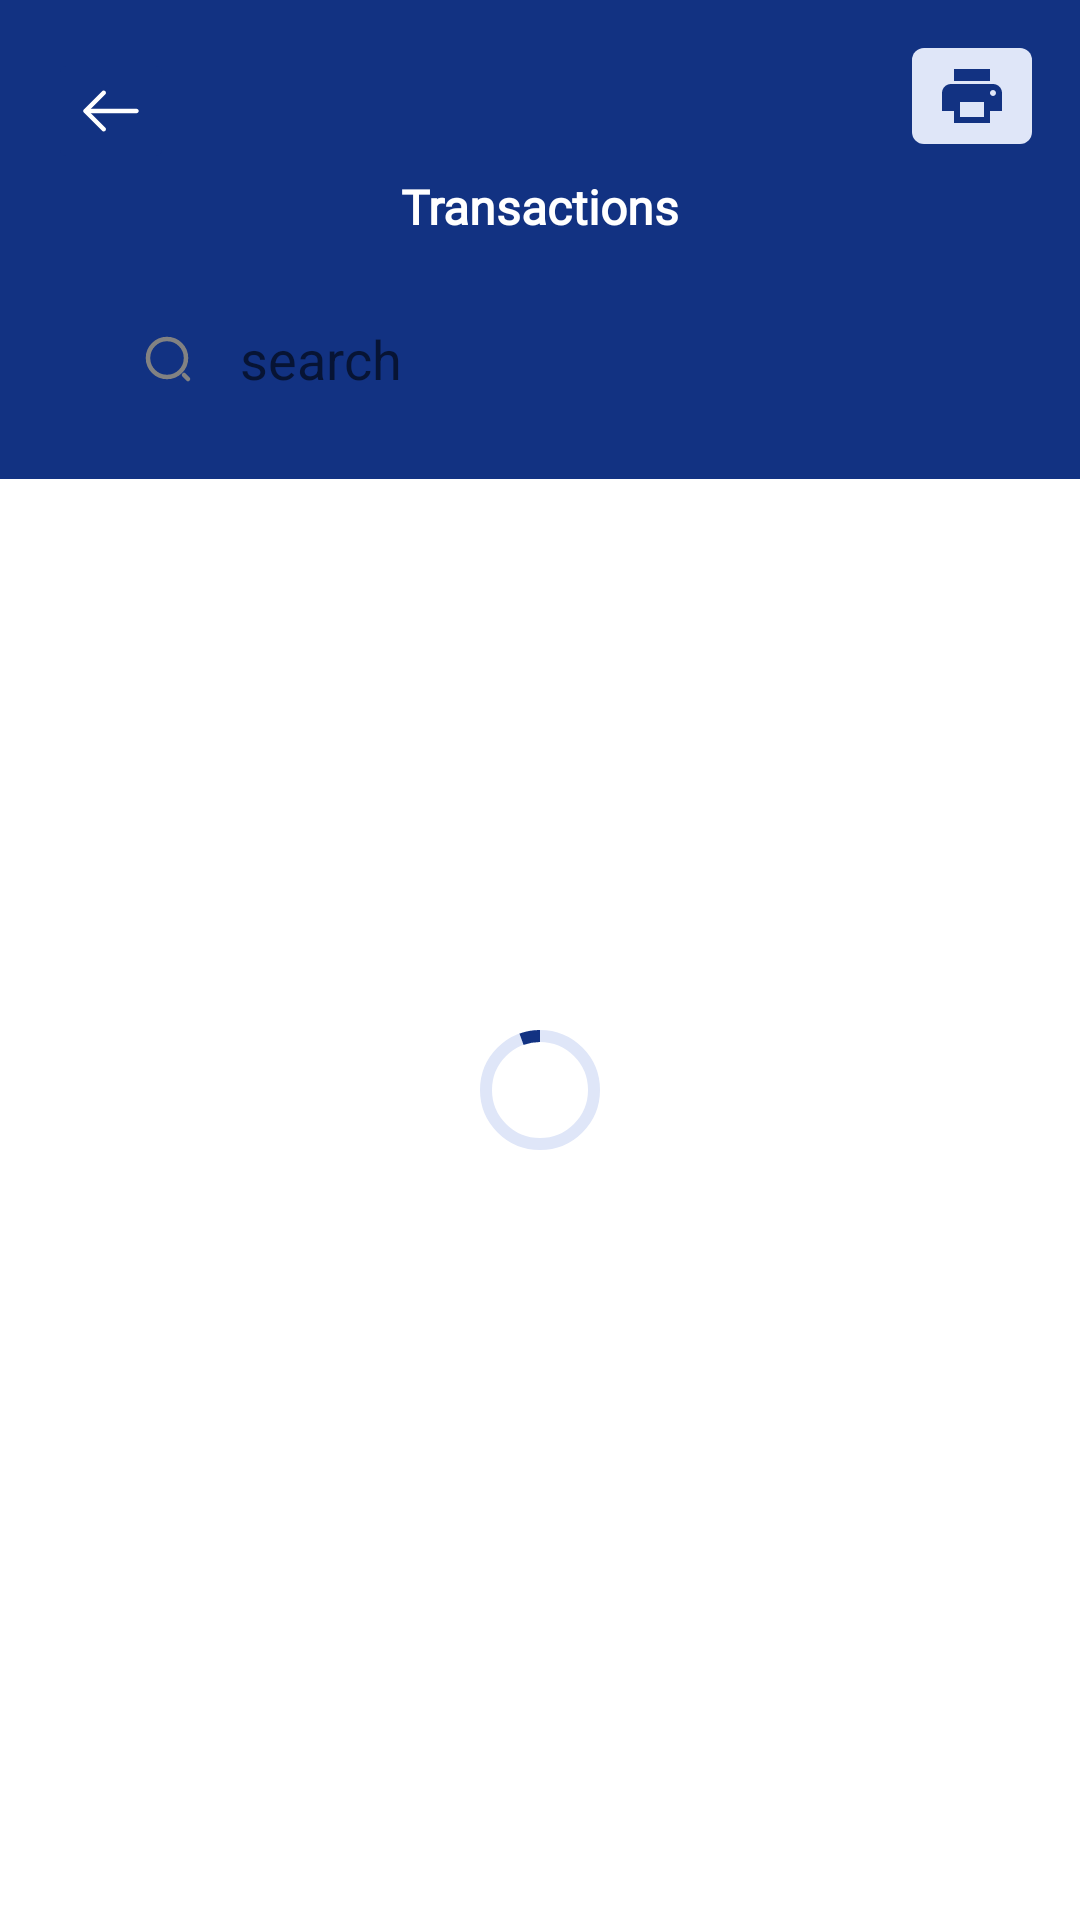

Where to tap for icons on this 1080 x 1920 app screen, as point (x, y):
arrow left: point (111, 111)
